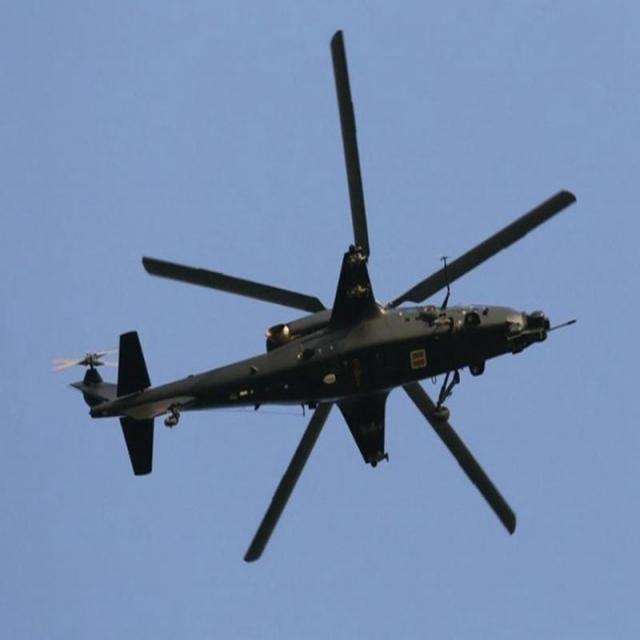MIL_HELO: (47, 23, 577, 565)
